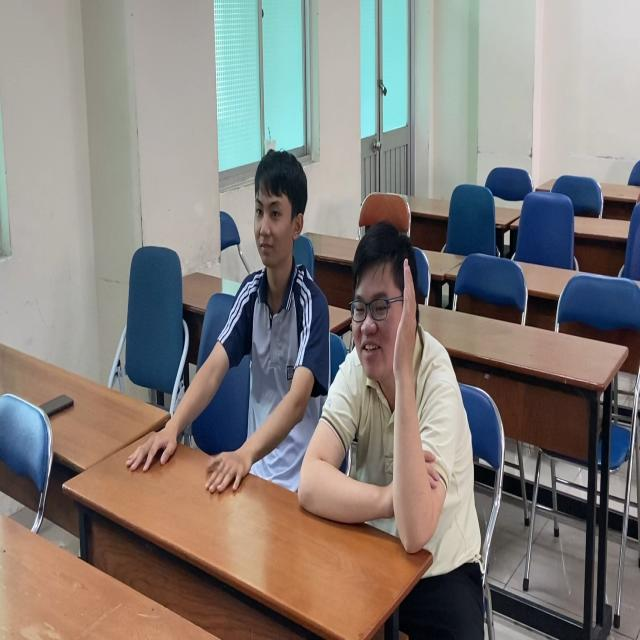raise_hand: (313, 210, 471, 568)
